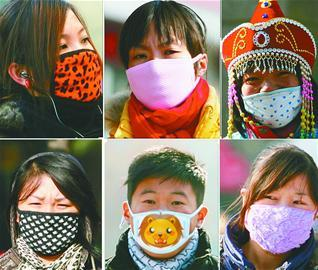face_mask: (30, 6, 102, 101), (127, 23, 194, 106), (247, 171, 316, 250), (14, 174, 80, 254), (130, 176, 196, 252), (240, 54, 303, 126)
